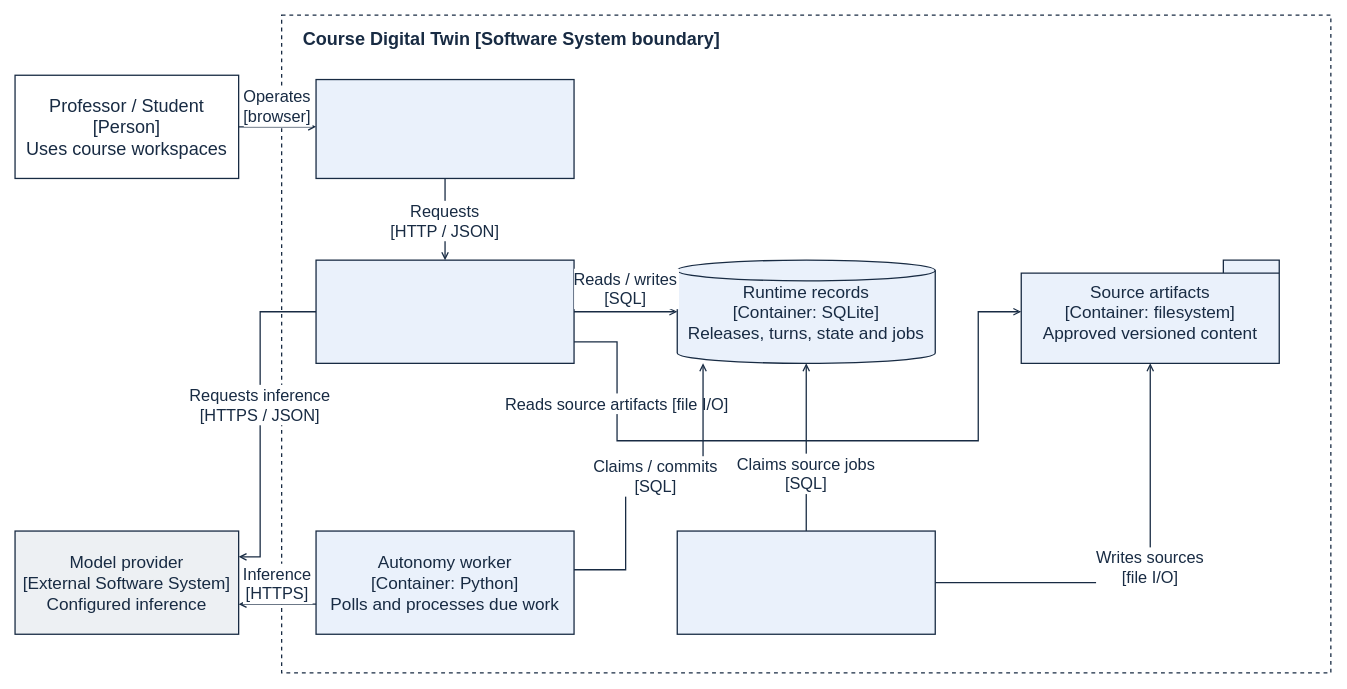
Image size: 1347x689. Some labels were removed from this diagram. Each missing label, with the centre of its shape:
API application [Container: Python / FastAPI] Authority and tutoring: point (444, 311)
Ingestion worker [Container: Python] Processes source jobs: point (806, 582)
Web application [Container: React / TypeScript] Role-scoped interfaces: point (444, 129)
